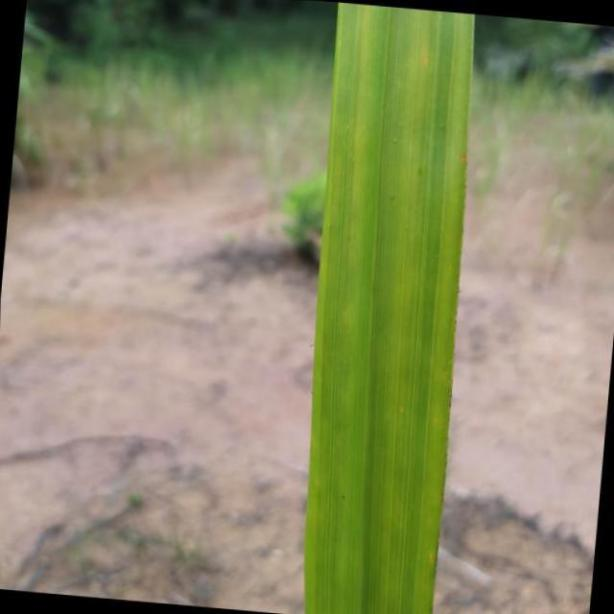nitrogen: (297, 0, 476, 614)
